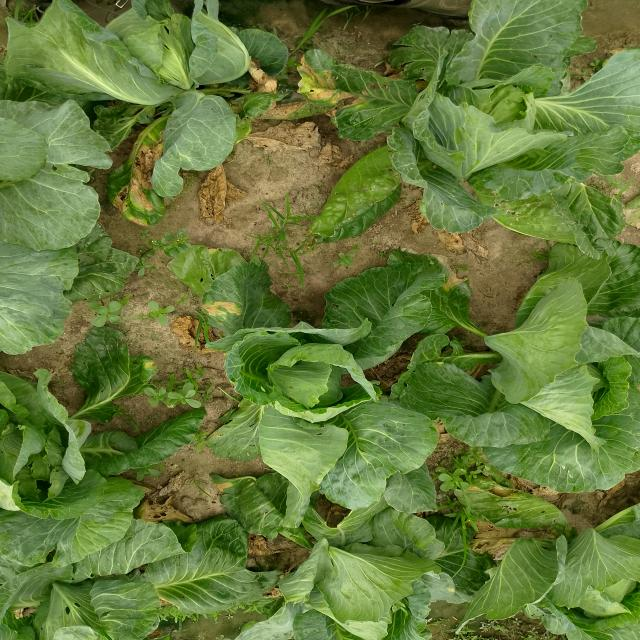Cabbage: (333, 0, 640, 262), (428, 282, 640, 508), (225, 298, 435, 516), (0, 362, 207, 573), (119, 0, 305, 177), (0, 87, 108, 353), (232, 528, 442, 640), (0, 521, 187, 640), (494, 508, 640, 640)
